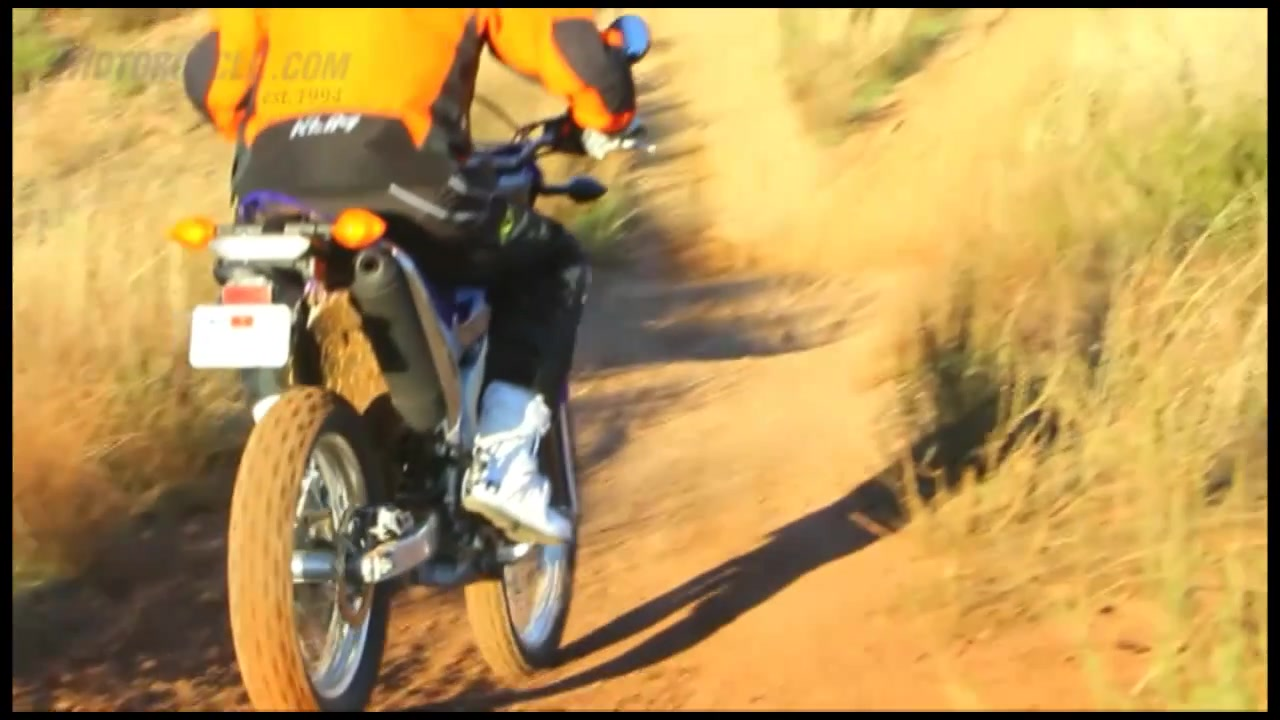motorbike: (175, 11, 657, 714)
